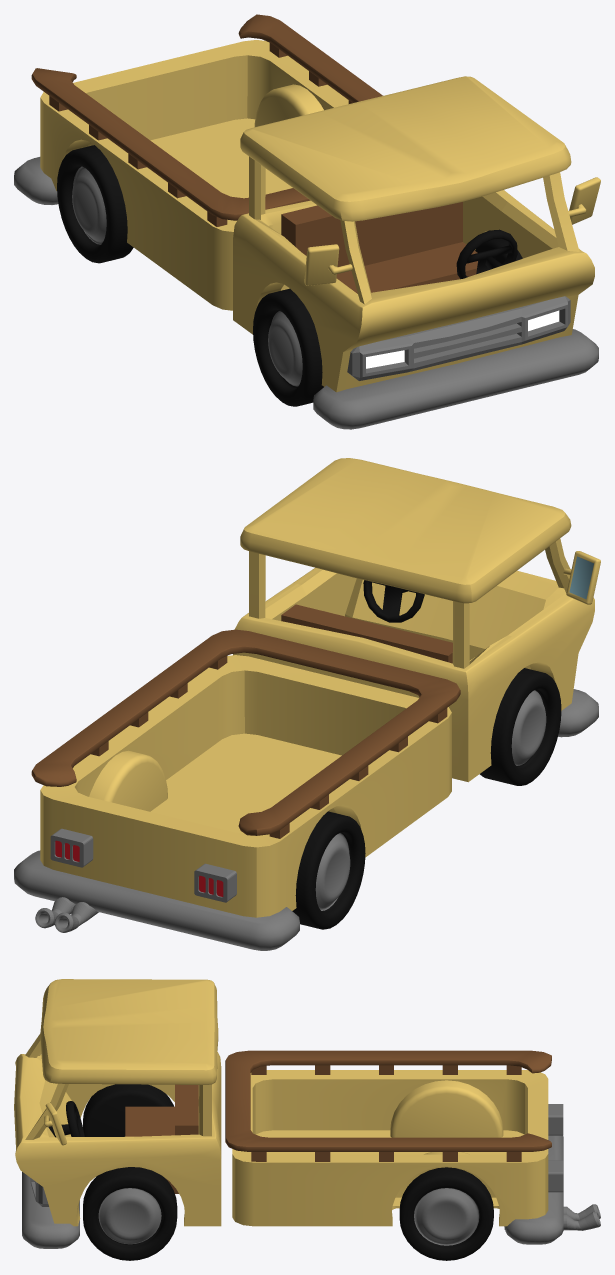
File: Car001.fbx
3 renders of one model, top to bottom at view 1: azimuth 30°, elevation 25°; view 2: azimuth 150°, elevation 25°; view 3: azimuth 270°, elevation 25°, orthographic. The views are drawn at different scales.
Visible parts, largest first — view 1: Body, Iron, Wood, Car Seat, Front Headlight, Sag Arka Teker, Sag On Teker, Aynalar, Sag Arka Teker.001, Steering Wheel; view 2: Body, Wood, Iron, Sag On Teker, Sag Arka Teker, Sag Arka Teker.001, Car Seat, Headlight, Exhaust, Aynalar, Steering Wheel; view 3: Body, Wood, Sol On Teker, Sol Arka Teker, Sag Arka Teker.001, Iron, Sag On Teker, Car Seat, Headlight, Exhaust, Steering Wheel, Aynalar.
Boxes of the visible parts, x1,y1,x2,y2 form: Body: [40, 40, 594, 392]; Iron: [14, 157, 598, 429]; Wood: [31, 14, 382, 226]; Car Seat: [281, 202, 477, 293]; Front Headlight: [347, 296, 570, 380]; Sag Arka Teker: [57, 145, 133, 263]; Sag On Teker: [253, 288, 323, 406]; Aynalar: [304, 177, 600, 285]; Sag Arka Teker.001: [87, 84, 323, 146]; Steering Wheel: [456, 229, 517, 278]; Body: [40, 458, 594, 917]; Wood: [31, 629, 460, 838]; Iron: [14, 689, 598, 950]; Sag On Teker: [479, 668, 561, 785]; Sag Arka Teker: [292, 811, 365, 929]; Sag Arka Teker.001: [89, 750, 335, 812]; Car Seat: [281, 604, 452, 663]; Headlight: [50, 828, 236, 902]; Exhaust: [35, 897, 98, 932]; Aynalar: [563, 551, 600, 604]; Steering Wheel: [363, 580, 424, 622]; Body: [14, 979, 548, 1226]; Wood: [225, 1050, 551, 1161]; Sol On Teker: [83, 1167, 177, 1260]; Sol Arka Teker: [399, 1167, 493, 1260]; Sag Arka Teker.001: [390, 1080, 503, 1209]; Iron: [22, 1135, 563, 1248]; Sag On Teker: [83, 1084, 173, 1136]; Car Seat: [125, 1084, 198, 1193]; Headlight: [548, 1104, 563, 1192]; Exhaust: [504, 1204, 600, 1230]; Steering Wheel: [48, 1101, 84, 1137]; Aynalar: [44, 1103, 66, 1145].
Bounding box in the file's own units: 248 × 191 × 535.
